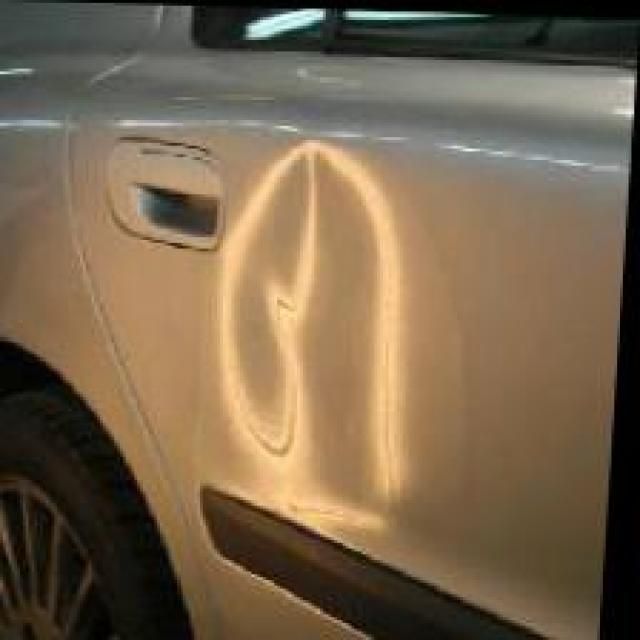car damage: (199, 128, 404, 504)
